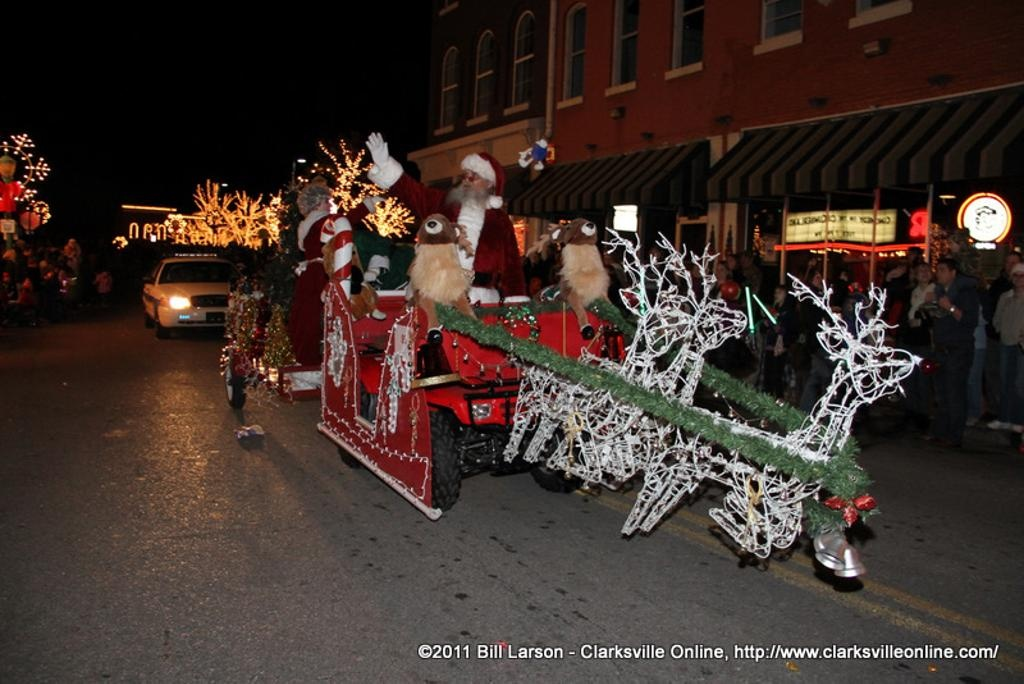human_face: (463, 168, 487, 196), (319, 194, 333, 216), (935, 264, 951, 282), (344, 246, 356, 266), (1010, 269, 1024, 285), (917, 266, 931, 280), (1006, 256, 1018, 272), (846, 296, 858, 310), (907, 251, 919, 264), (811, 272, 821, 287), (741, 252, 751, 266), (717, 264, 727, 278), (774, 289, 784, 301), (726, 256, 736, 268)
